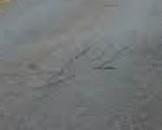alligator-crack: (0, 38, 139, 109)
